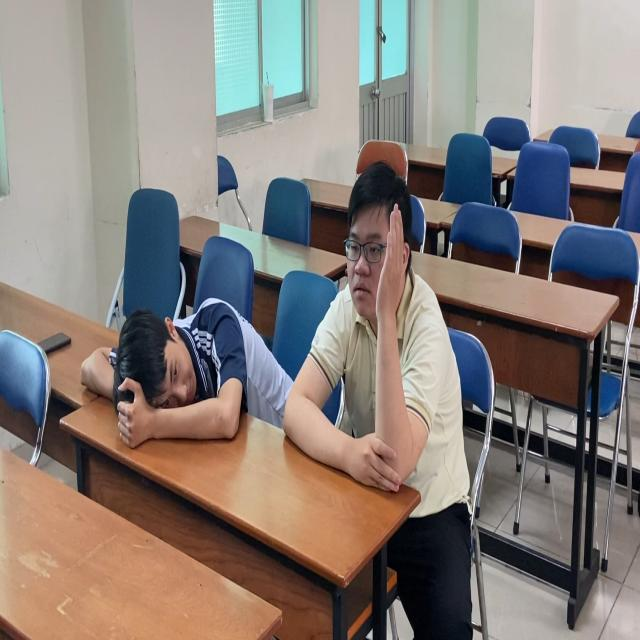raise_hand: (324, 156, 449, 492)
sleep: (75, 297, 291, 463)
